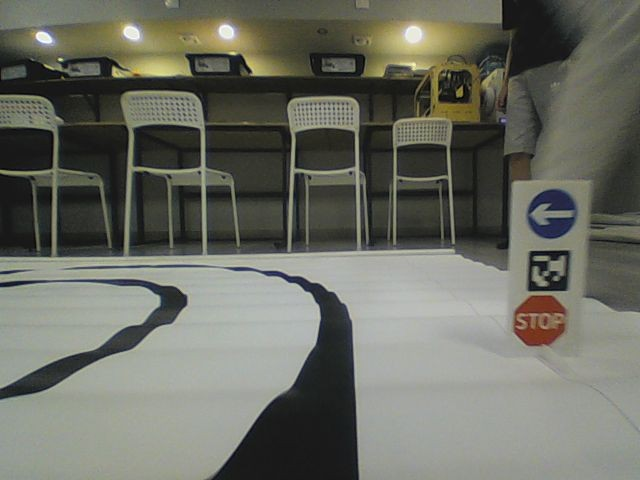Stop: (510, 294, 568, 349)
